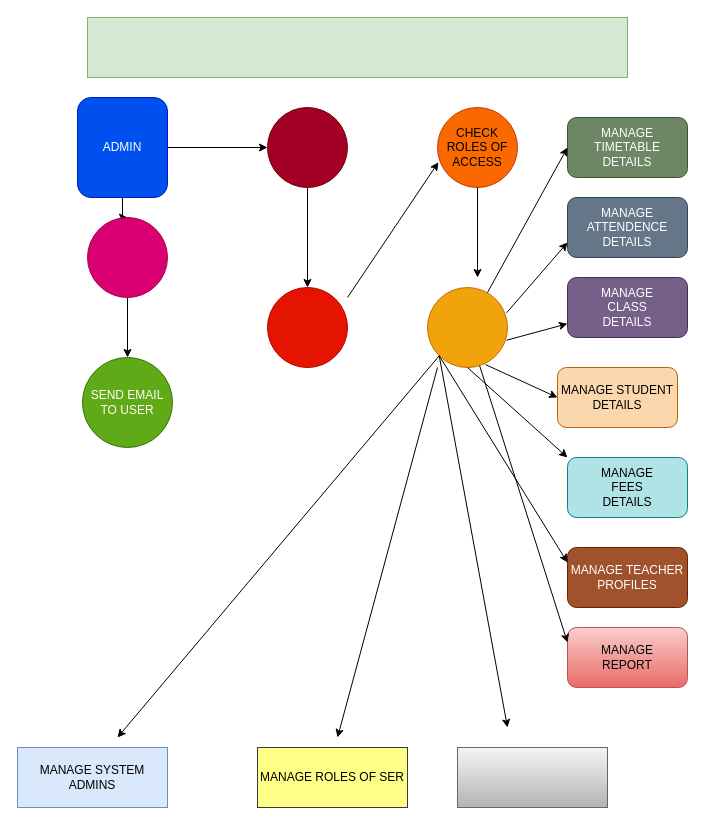
This 705x825 diagram has some shape labels left out. Each missing label, with the box of its shape:
CHECK CREDENTIALS: (266, 286, 348, 368)
FORGOT PASSWORD: (86, 216, 168, 298)
LOGIN TO SYSTEM: (266, 106, 348, 188)
MANAGE MODULES: (426, 286, 508, 368)
MANAGE USER PERMISSION: (456, 746, 608, 808)
STUDENT INFORMATION SYSTEM: (86, 16, 628, 78)
